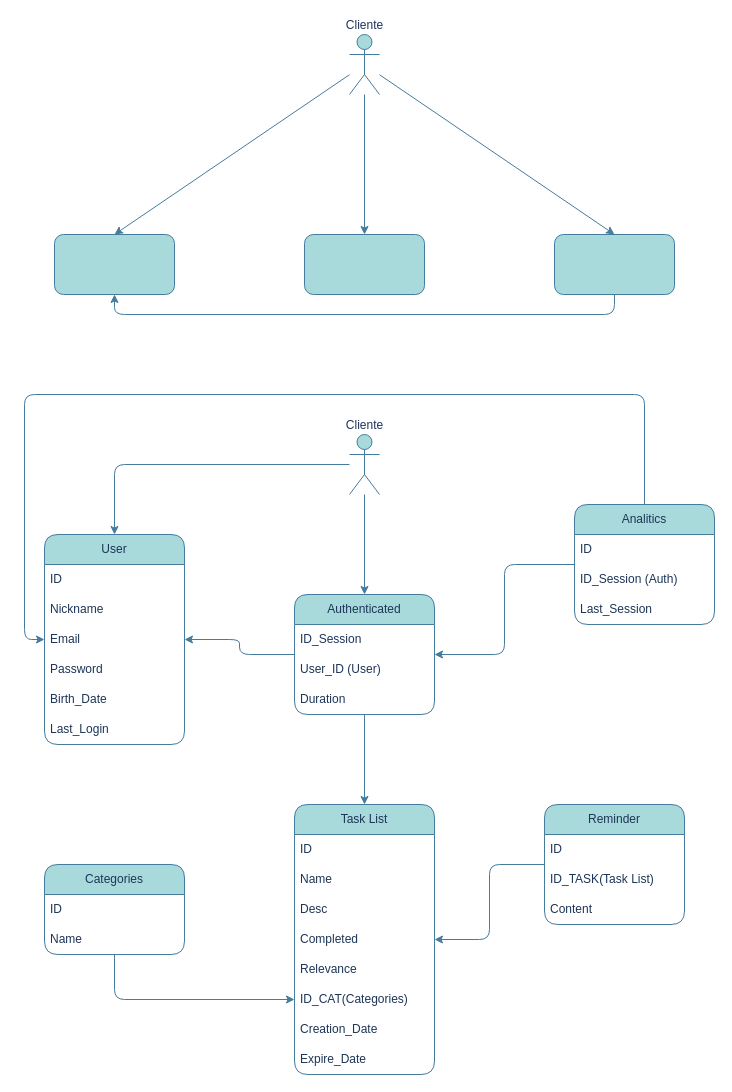
Image size: 732x1092. Some labels were removed from this diagram. The shapes that lost their labels are listed below. From the top down, each one's centre as x and y in pixels, then its label:
At point (114, 264): "Gerenciar Tarefas Diárias".
At point (364, 264): "Definir Lembretes".
At point (614, 264): "Priorizar Atividades".
